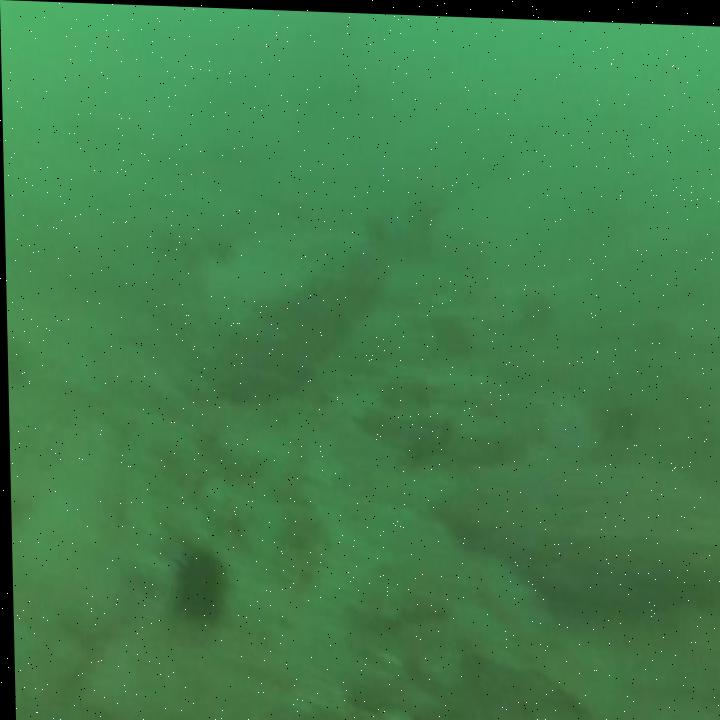echinus: (173, 556, 224, 621)
